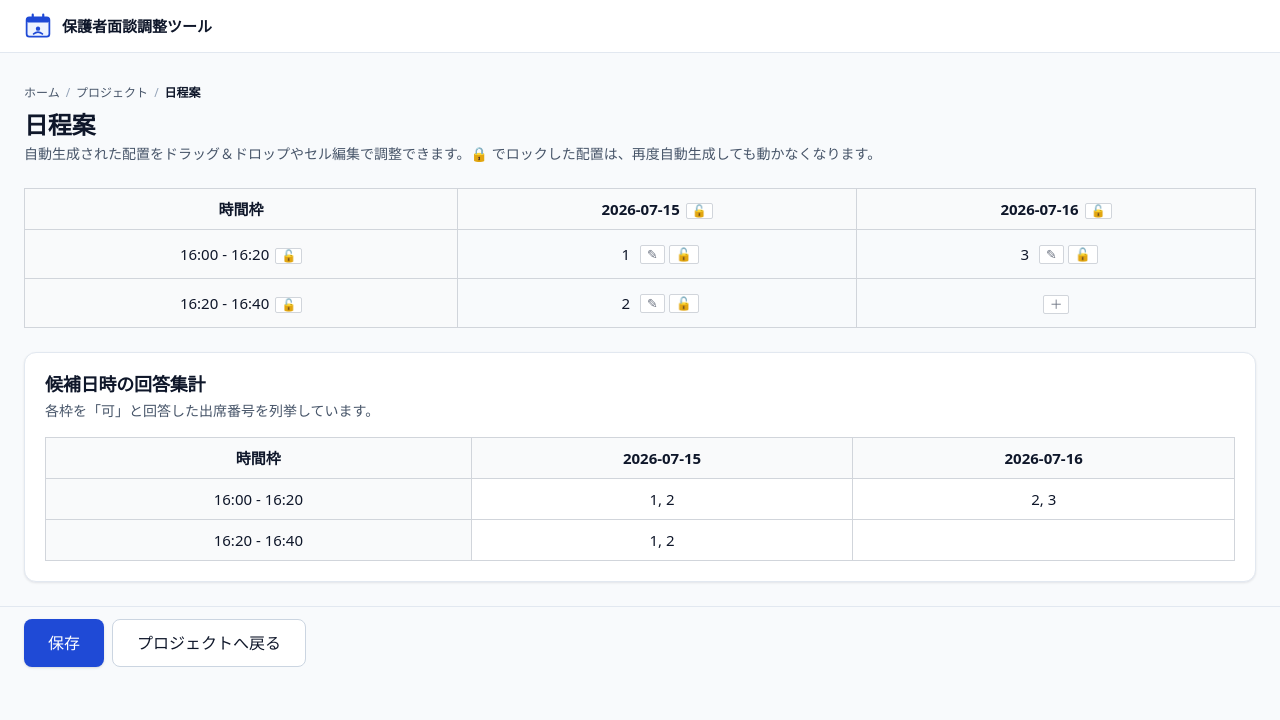
Test: 手動入力 UI › 名簿外の番号を入力すると validation-alert に表示される
The width and height of the screenshot is (1280, 720).
Click the button with test id "cell-edit-button-2026-07-16|16:20". click: (1056, 305)
box: [1043,295,1069,314]
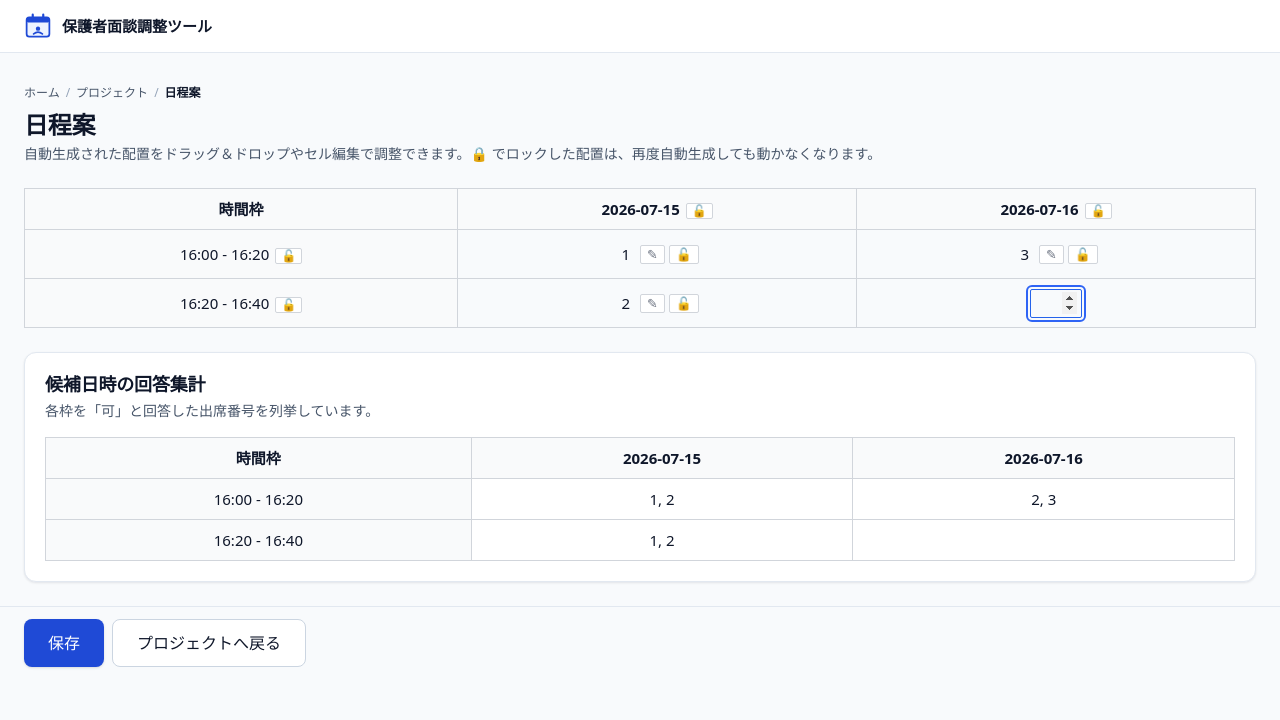
Type "99" into the number field with test id "cell-input-2026-07-16|16:20". click: (1056, 303)
box: [1030,289,1082,318]
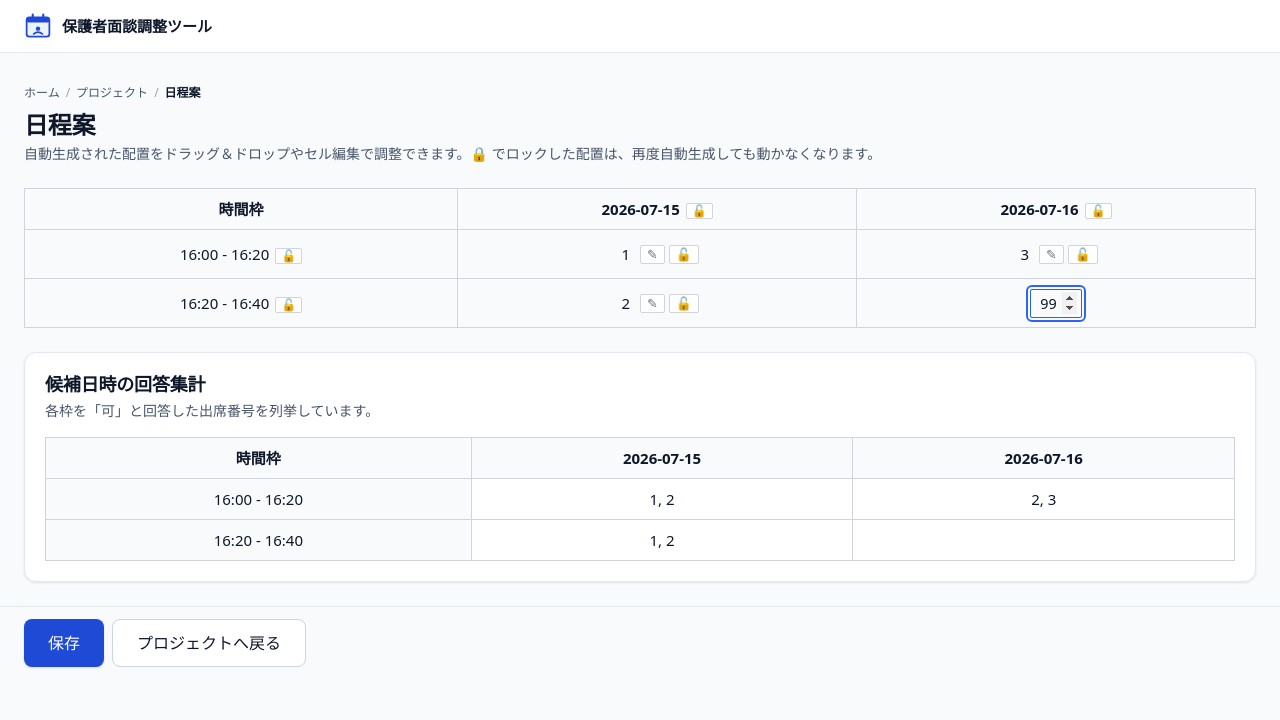
Leave the number field with test id "cell-input-2026-07-16|16:20", box [1030,289,1082,318]
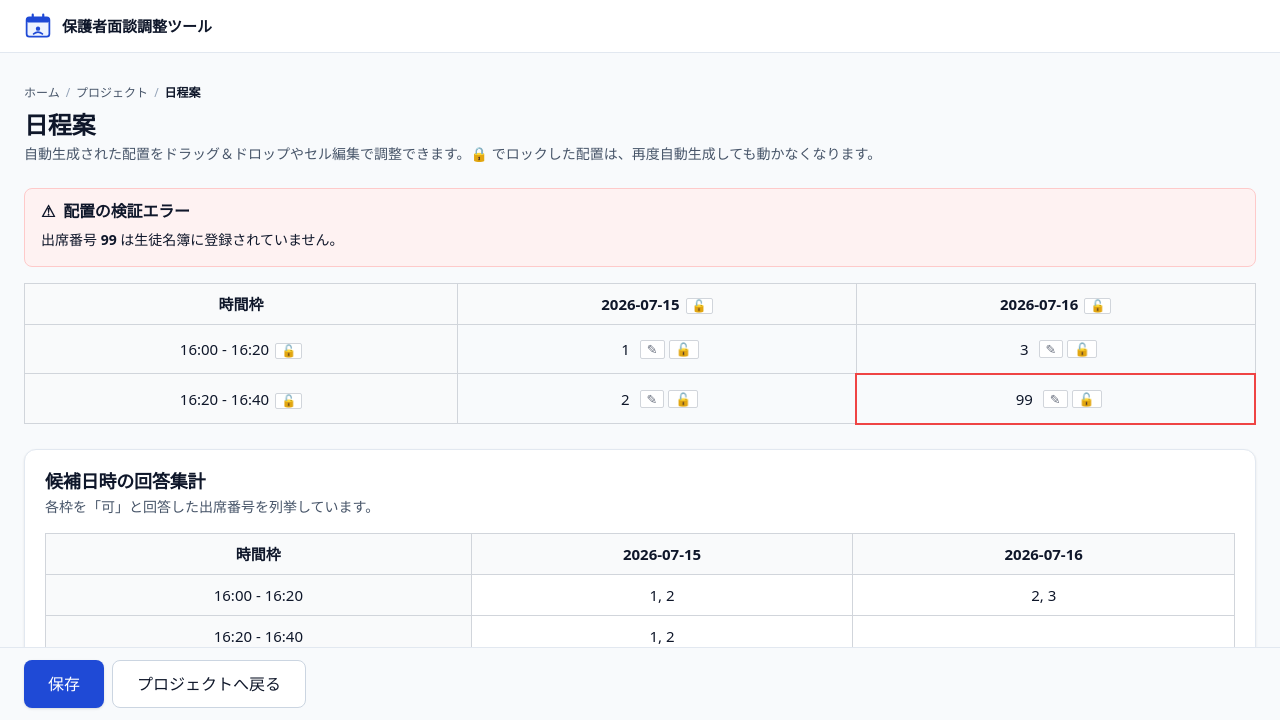
Result: the message with test id "validation-alert" shows "生徒名簿に登録されていません" at [120,230,344,249]
Result: the message with test id "validation-alert" shows "99" at [101,230,117,249]
